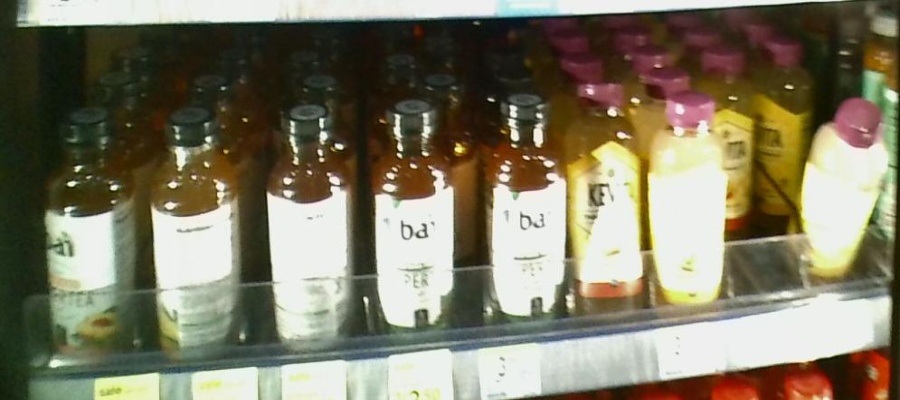bottle: (140, 101, 249, 361), (261, 93, 357, 354), (43, 102, 136, 363), (366, 91, 459, 343), (480, 94, 568, 320), (570, 84, 647, 303), (650, 90, 725, 307), (807, 98, 886, 283)
